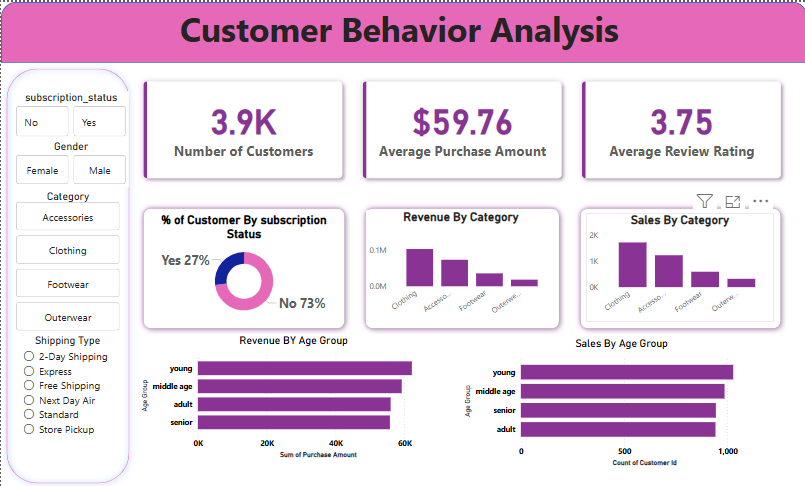

What the dashboard file says about the page in this screenshot:
{"tool":"powerbi","page":{"name":"Page 1","canvas":[1280,773],"ordinal":0},"visuals":[{"type":"cardVisual","fields":{"Data":["customer_behavior customer.Number of Customers","customer_behavior customer.Average Purchase Amount","customer_behavior customer.Average Review Rating"]},"box":[196.1,96.6,1071.2,212.2],"z":0},{"type":"shape","box":[0,0,1280.5,96.6],"z":1000},{"type":"textbox","box":[82,0,1099,124.4],"z":2000},{"type":"shape","box":[218,319,336.6,207.8],"z":3000},{"type":"donutChart","title":"% of Customer By subscription Status","fields":{"Category":["customer_behavior customer.subscription_status"],"Y":["CountNonNull(customer_behavior customer.customer_id)"]},"box":[237.1,335.1,298.5,172.7],"z":4000},{"type":"shape","box":[569.3,319,324.9,207.8],"z":5000},{"type":"shape","box":[911.7,319,335.1,207.8],"z":6000},{"type":"clusteredColumnChart","title":"Revenue By Category","fields":{"Y":["Sum(customer_behavior customer.purchase_amount)"],"Category":["customer_behavior customer.category"]},"box":[579.5,330.7,301.5,177.1],"z":7000},{"type":"clusteredColumnChart","title":"Sales By Category","fields":{"Y":["CountNonNull(customer_behavior customer.customer_id)"],"Category":["customer_behavior customer.category"]},"box":[927.8,335.1,298.5,172.7],"z":8000},{"type":"shape","box":[0,96.8,212.7,676.2],"z":9000},{"type":"advancedSlicerVisual","fields":{"Values":["customer_behavior customer.subscription_status"]},"box":[19,142,184.4,77.6],"z":10000},{"type":"advancedSlicerVisual","fields":{"Values":["customer_behavior customer.gender"]},"box":[19,219.5,184.4,79],"z":11000},{"type":"advancedSlicerVisual","fields":{"Values":["customer_behavior customer.category"]},"box":[19,298.4,174.6,230.2],"z":12000},{"type":"listSlicer","fields":{"Values":["customer_behavior customer.shipping_type"]},"box":[30.2,527,150.8,214.3],"z":12001},{"type":"clusteredBarChart","title":"Revenue BY Age Group","fields":{"Y":["Sum(customer_behavior customer.purchase_amount)"],"Category":["customer_behavior customer.age_group"]},"box":[217.5,527,493.7,201.6],"z":12002},{"type":"clusteredBarChart","title":"Sales By Age Group","fields":{"Y":["CountNonNull(customer_behavior customer.customer_id)"],"Category":["customer_behavior customer.age_group"]},"box":[730.2,531.7,509.5,209.5],"z":12004}]}

Visuals, with their boxes in screenshot pixels (x1, y1, x2, y2), scaled from the page's 1280x773 canvas onto the 805x486 screenshot:
cardVisual - customer_behavior customer.Number of Customers x customer_behavior customer.Average Purchase Amount: rect(123, 61, 797, 194)
shape: rect(0, 0, 804, 61)
textbox: rect(52, 0, 743, 78)
shape: rect(137, 201, 349, 331)
"% of Customer By subscription Status" donutChart: rect(149, 211, 337, 319)
shape: rect(358, 201, 562, 331)
shape: rect(573, 201, 784, 331)
"Revenue By Category" clusteredColumnChart: rect(364, 208, 554, 319)
"Sales By Category" clusteredColumnChart: rect(583, 211, 771, 319)
shape: rect(0, 61, 134, 485)
advancedSlicerVisual - customer_behavior customer.subscription_status: rect(12, 89, 128, 138)
advancedSlicerVisual - customer_behavior customer.gender: rect(12, 138, 128, 188)
advancedSlicerVisual - customer_behavior customer.category: rect(12, 188, 122, 332)
listSlicer - customer_behavior customer.shipping_type: rect(19, 331, 114, 466)
"Revenue BY Age Group" clusteredBarChart: rect(137, 331, 447, 458)
"Sales By Age Group" clusteredBarChart: rect(459, 334, 780, 466)
